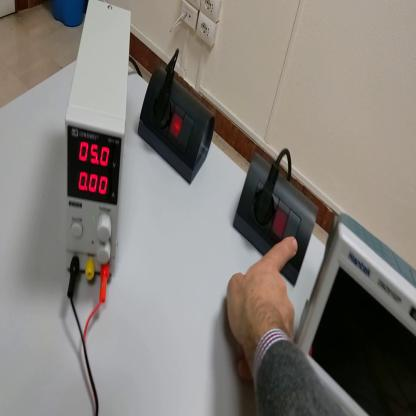hand: (226, 233, 301, 372)
oscilloscope: (298, 216, 416, 415)
power supply: (67, 2, 134, 274)
socket: (233, 149, 317, 285), (139, 65, 216, 189)
